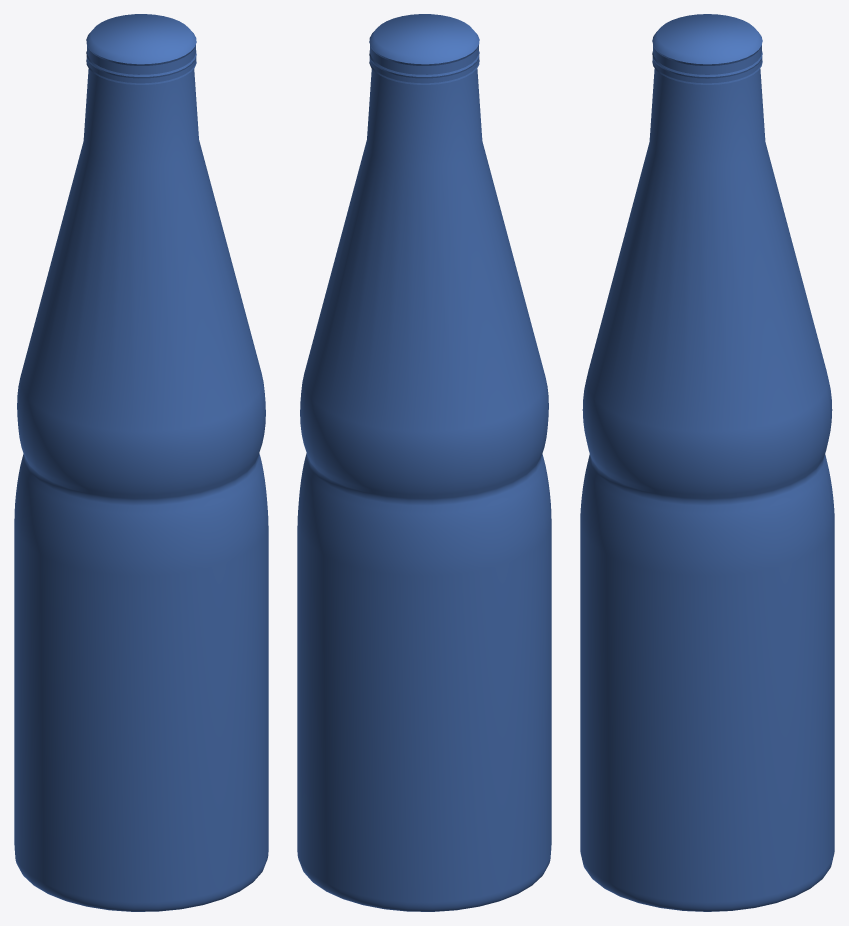
File: bottle1.glb
3 views of the same model, side by side, from view 1: azimuth 30°, elevation 25°; view 2: azimuth 150°, elevation 25°; view 3: azimuth 270°, elevation 25° (orthographic).
Parts seen in each view (by area): view 1: WasserflascheMineral; view 2: WasserflascheMineral; view 3: WasserflascheMineral.
Boxes of the visible parts, box(x1,y1,x2,y2) form: WasserflascheMineral: box(14, 14, 268, 911); WasserflascheMineral: box(297, 14, 551, 911); WasserflascheMineral: box(580, 14, 834, 911).
Size of the model in its own units: 0.8707 by 3.11 by 0.8707.
